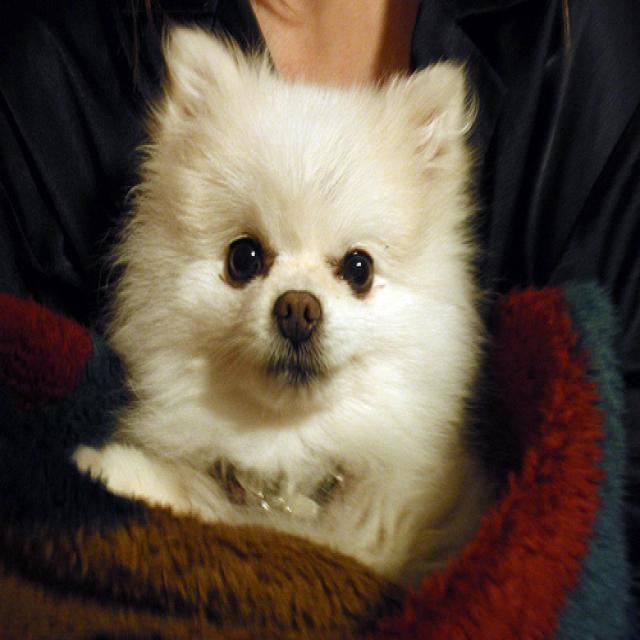dog-pomeranian: (65, 9, 509, 613)
